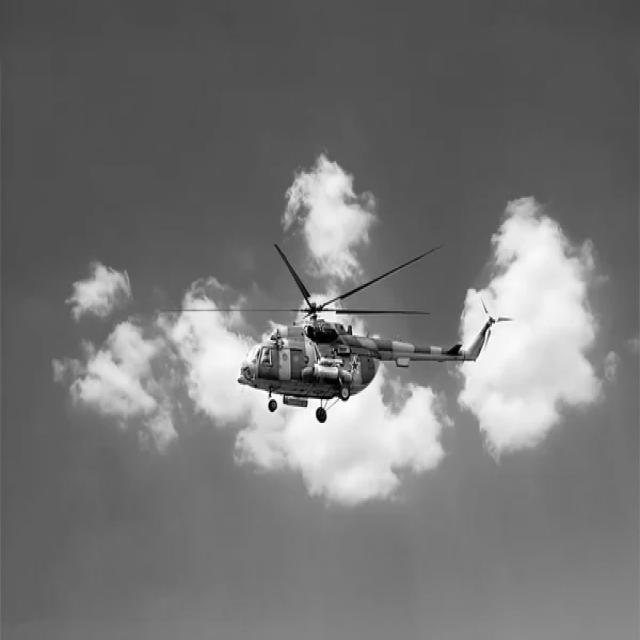Helicopter: (238, 242, 511, 423)
